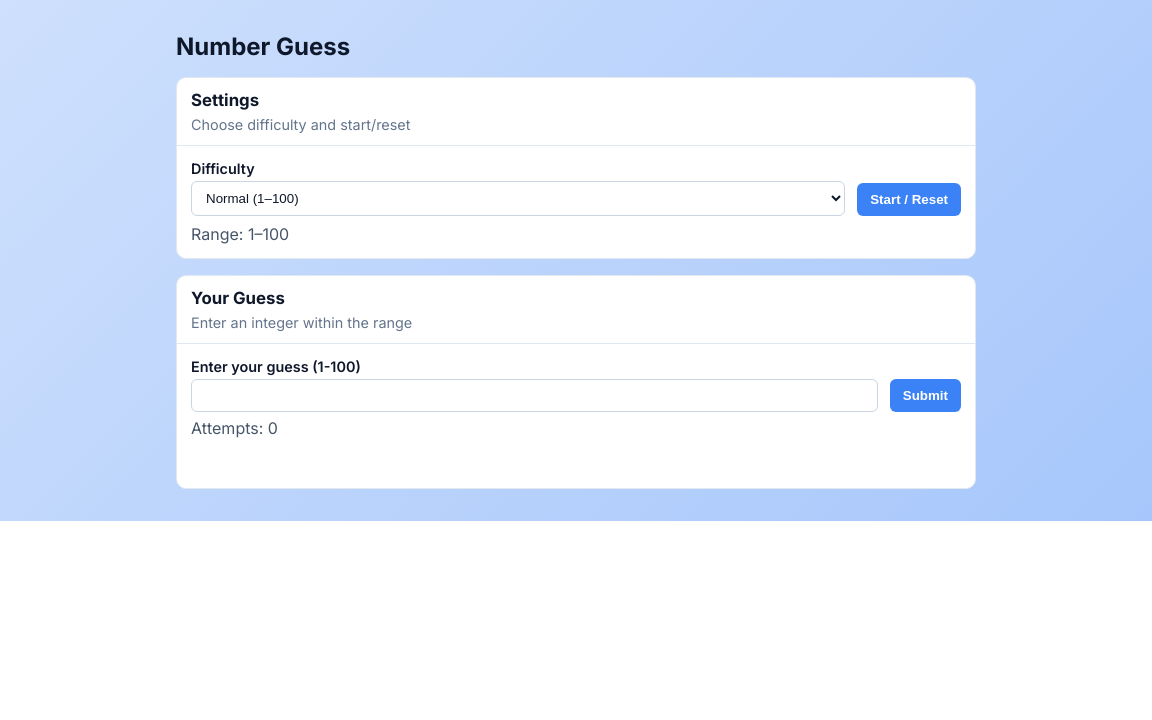
NumberGuessPage › renders controls and responds to invalid input
The image size is (1152, 720).
Check: the dropdown labelled "Difficulty" is shown, box left=191, top=181, right=845, bottom=216
Check: the button with aria-label "Start or reset game" is shown, box left=857, top=183, right=961, bottom=216
Click the button "Submit" at (925, 396), box left=890, top=379, right=961, bottom=412
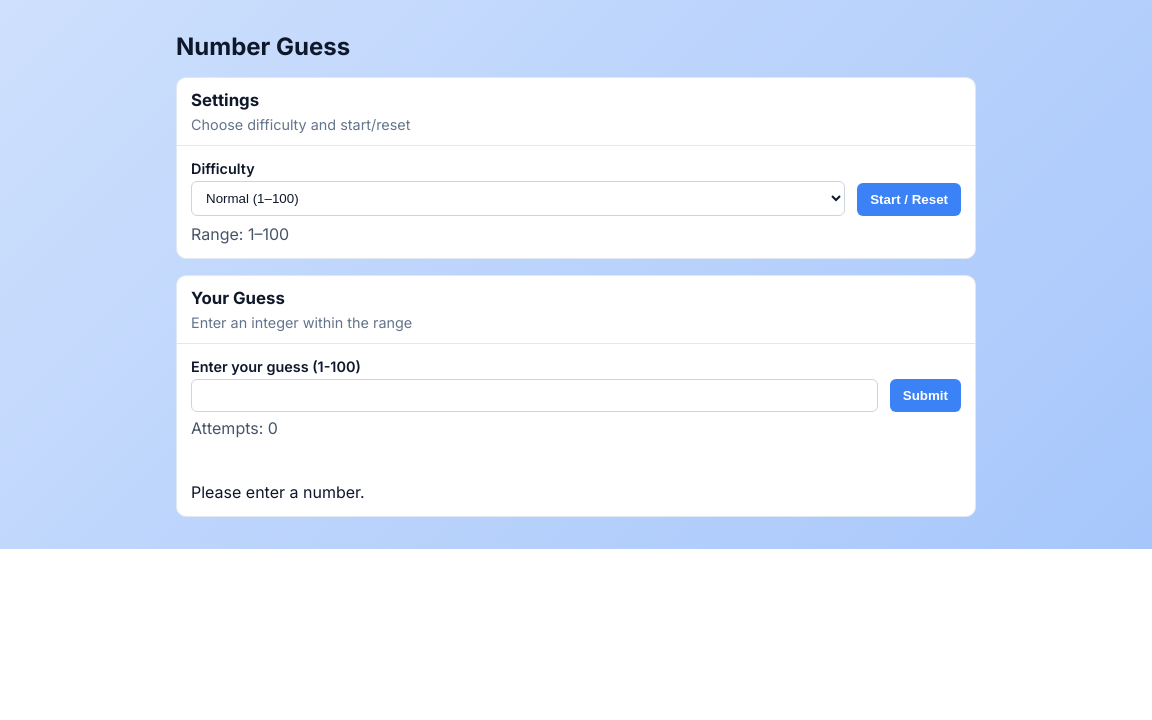
Check: the message "Please enter a number." is shown, box left=191, top=482, right=365, bottom=502
